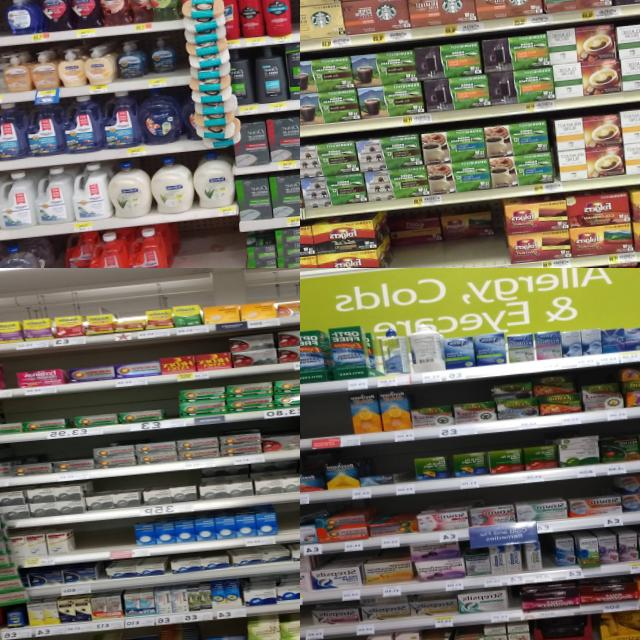100- O.O.S: (177, 215, 243, 268), (300, 393, 350, 449), (75, 519, 133, 562), (393, 448, 415, 495), (276, 499, 300, 541), (290, 0, 300, 42), (300, 605, 312, 640)
